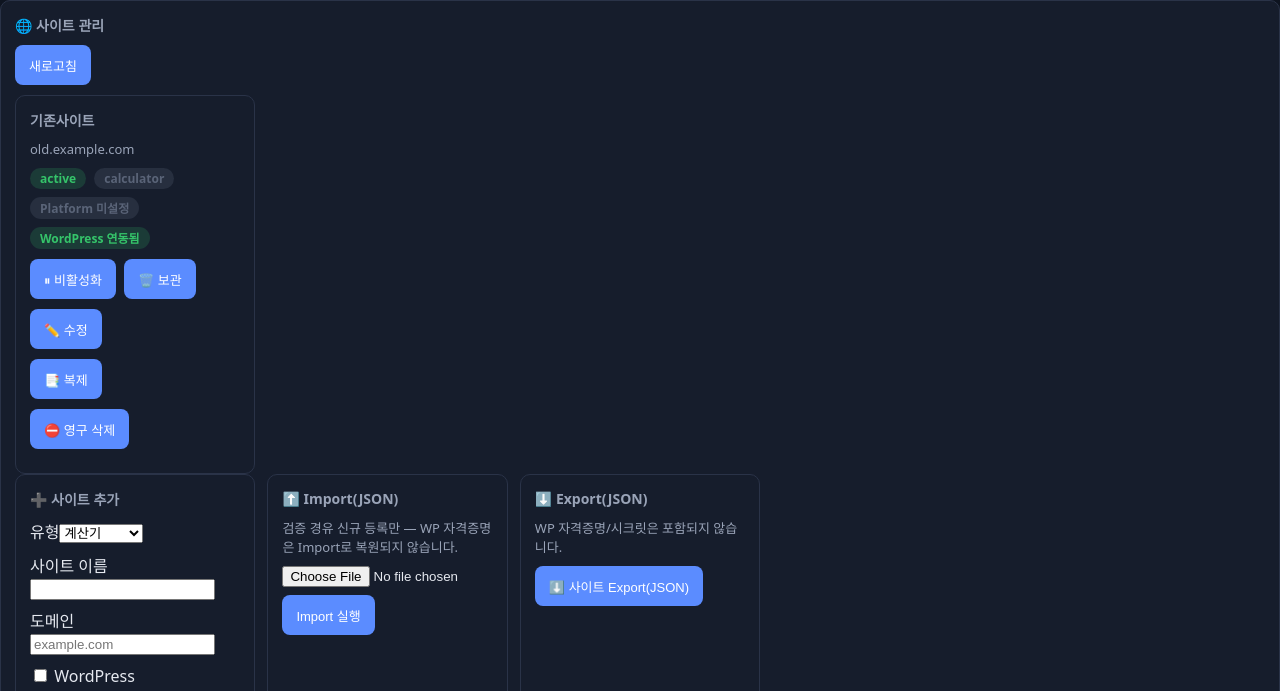
Test case: Site edit panel (STEP P2-07) › loads current values via getSite when expanded
The width and height of the screenshot is (1280, 691).
Expected: the heading "기존사이트" is shown, [30,111,94,130]
Click the button "✏️ 수정".
click(66, 329)  # box [30,309,102,349]
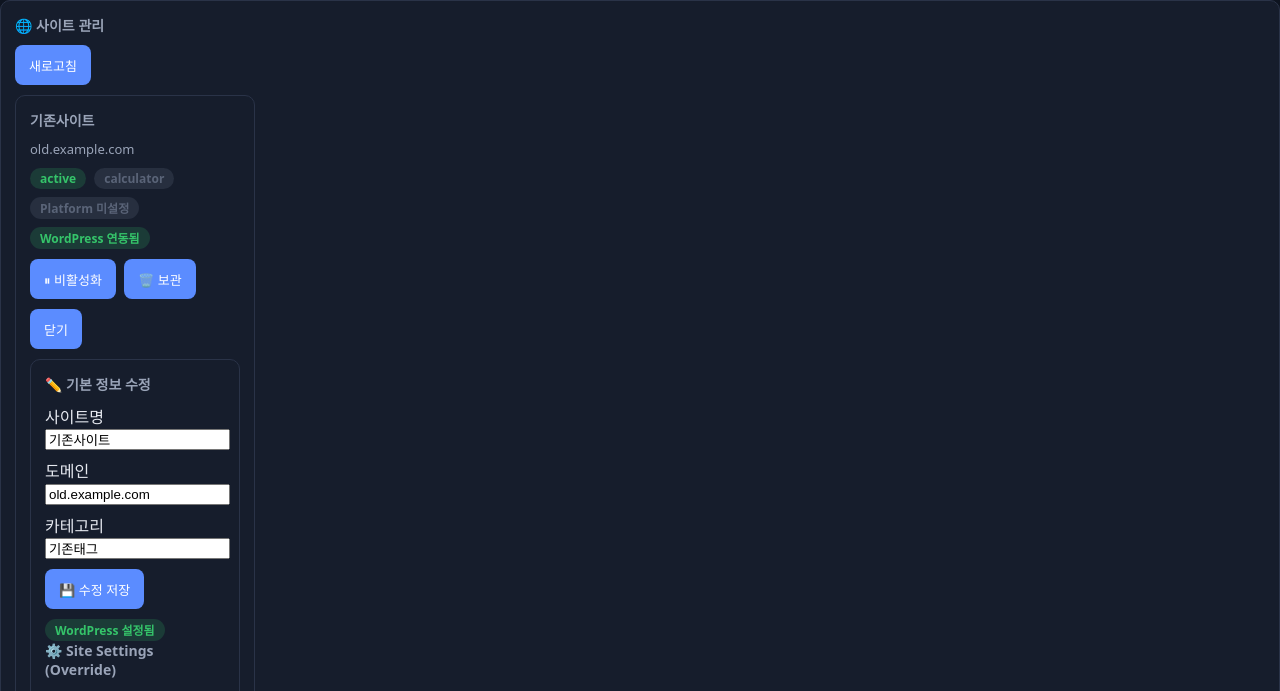
Expected: the heading "✏️ 기본 정보 수정" is shown, [45,375,151,394]
Expected: the field labelled "사이트명" holds "기존사이트", [45,429,230,450]
Expected: the field labelled "도메인" holds "old.example.com", [45,484,230,505]
